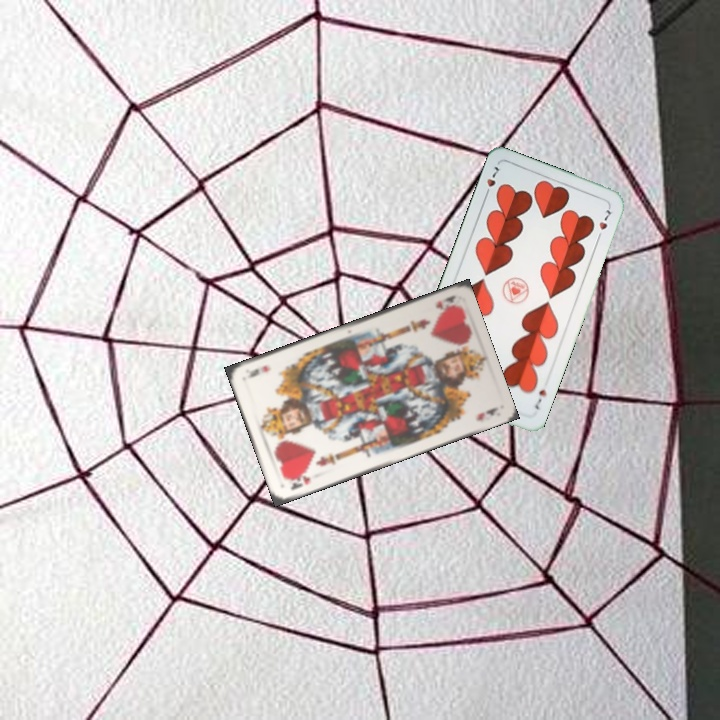H7: (480, 162, 503, 200), (530, 385, 549, 412)
HK: (282, 471, 313, 493), (432, 291, 458, 313)
